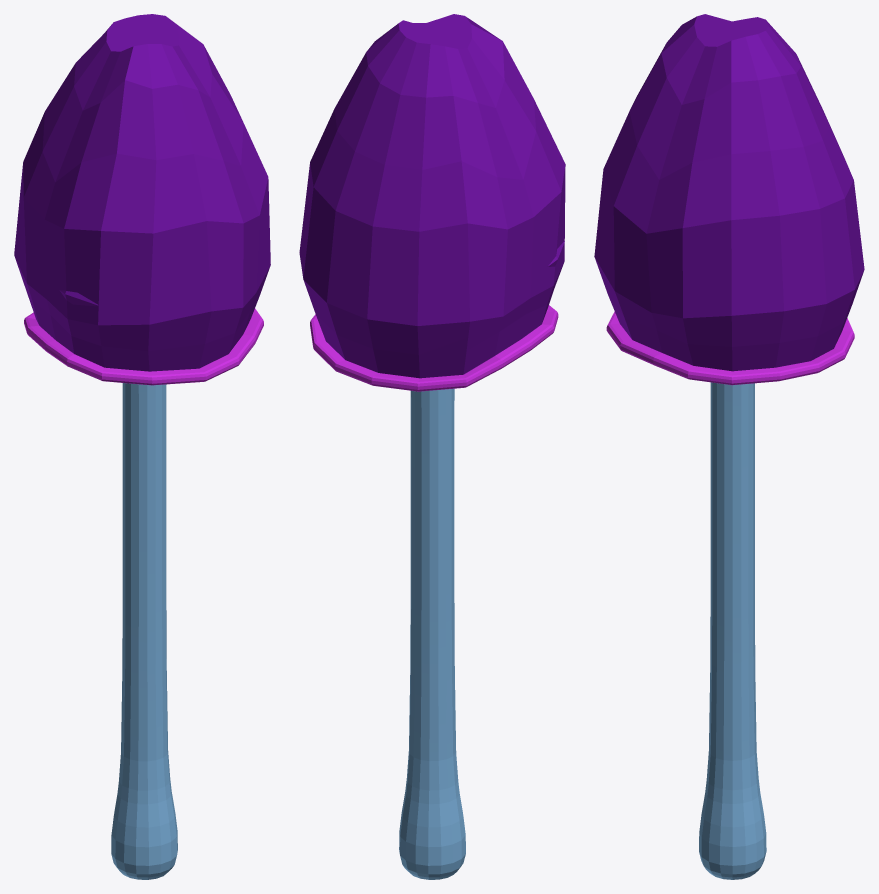
Rendered from mushroom 4.fbx.
The picture shows the model from 3 angles, left to right: view 1: azimuth 30°, elevation 25°; view 2: azimuth 150°, elevation 25°; view 3: azimuth 270°, elevation 25°; orthographic projection.
Parts seen in each view (by area): view 1: paddo_5_fin.001; view 2: paddo_5_fin.001; view 3: paddo_5_fin.001.
Part boxes in pixels (left/top/right/bottom): paddo_5_fin.001: left=14, top=14, right=270, bottom=879; paddo_5_fin.001: left=299, top=14, right=565, bottom=879; paddo_5_fin.001: left=594, top=14, right=864, bottom=879.
Size of the model in its own units: 935 by 3418 by 987.
